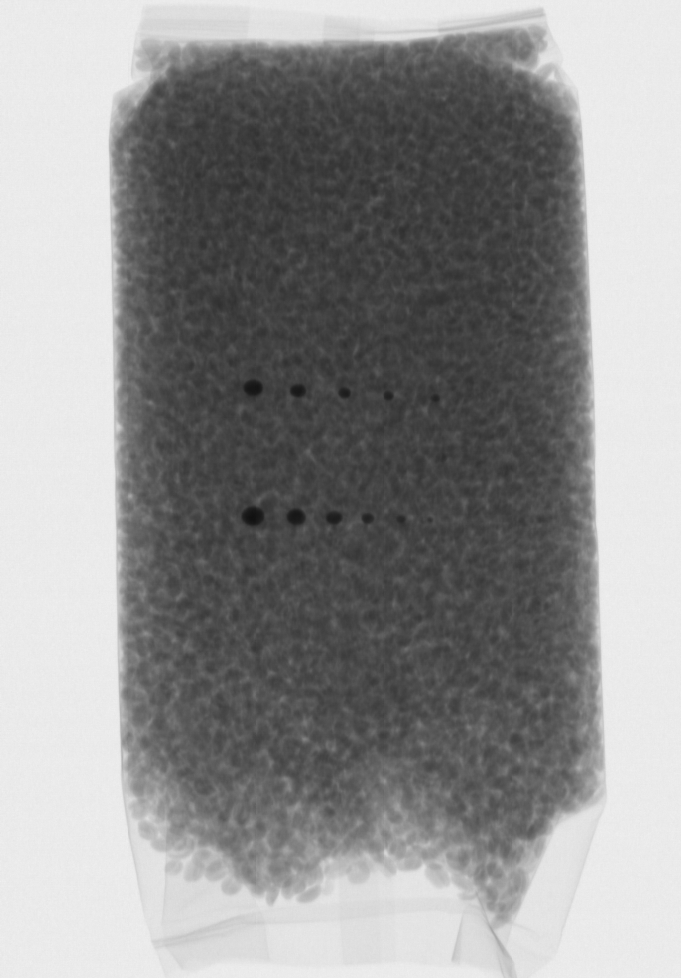glass: (238, 498, 267, 530), (242, 374, 264, 398), (336, 381, 356, 403), (286, 380, 307, 400), (286, 505, 304, 528), (358, 501, 375, 525), (326, 505, 342, 530), (393, 509, 411, 527), (381, 384, 394, 402), (430, 390, 443, 406)
glass_area: (225, 358, 459, 418), (224, 488, 430, 540)
